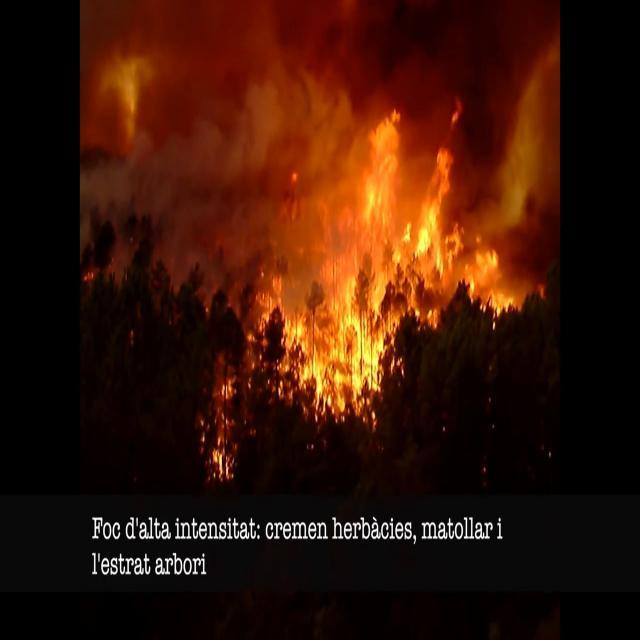Fire: (256, 89, 502, 416)
Smoke: (81, 1, 347, 276)
